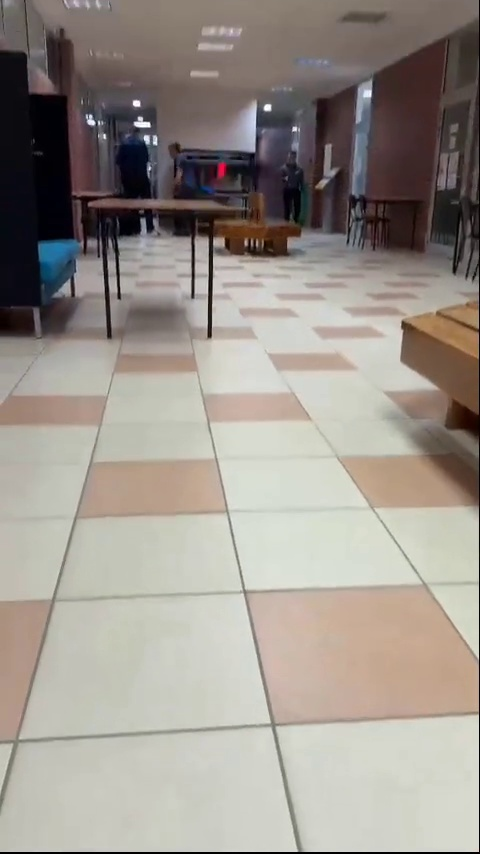drone: (188, 156, 253, 184)
no vest: (122, 123, 158, 229), (276, 153, 307, 228), (162, 141, 192, 202)
